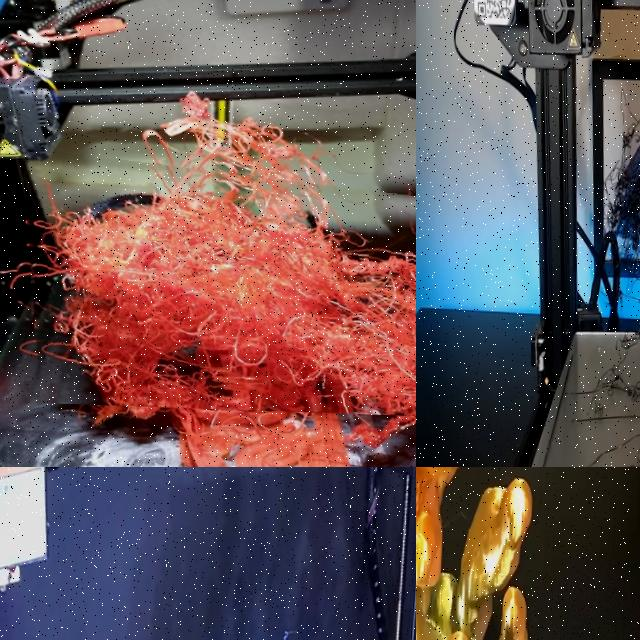spaghetti: (12, 146, 416, 419), (605, 141, 640, 249), (612, 105, 623, 160)
